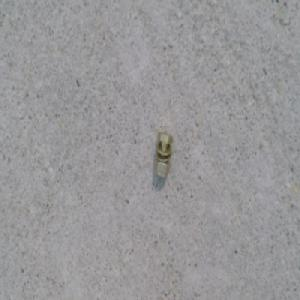BoltNutSet: (153, 130, 173, 177)
